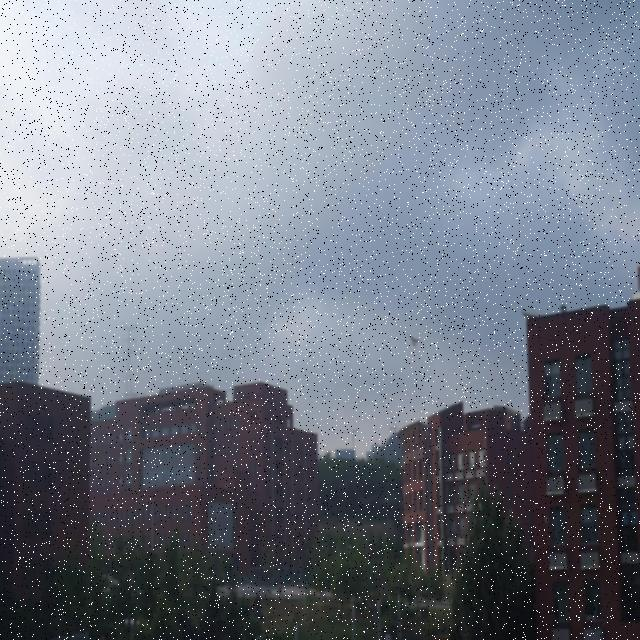UAV: (407, 333, 420, 348)
